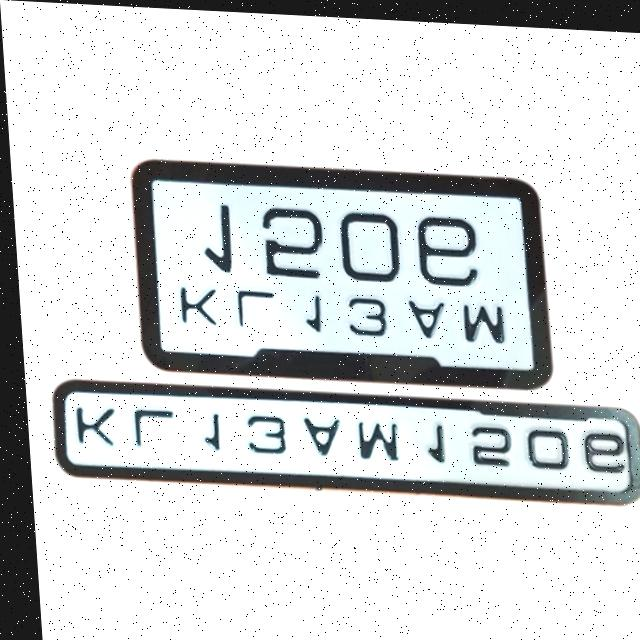plate: (124, 154, 549, 389), (39, 374, 640, 507)
